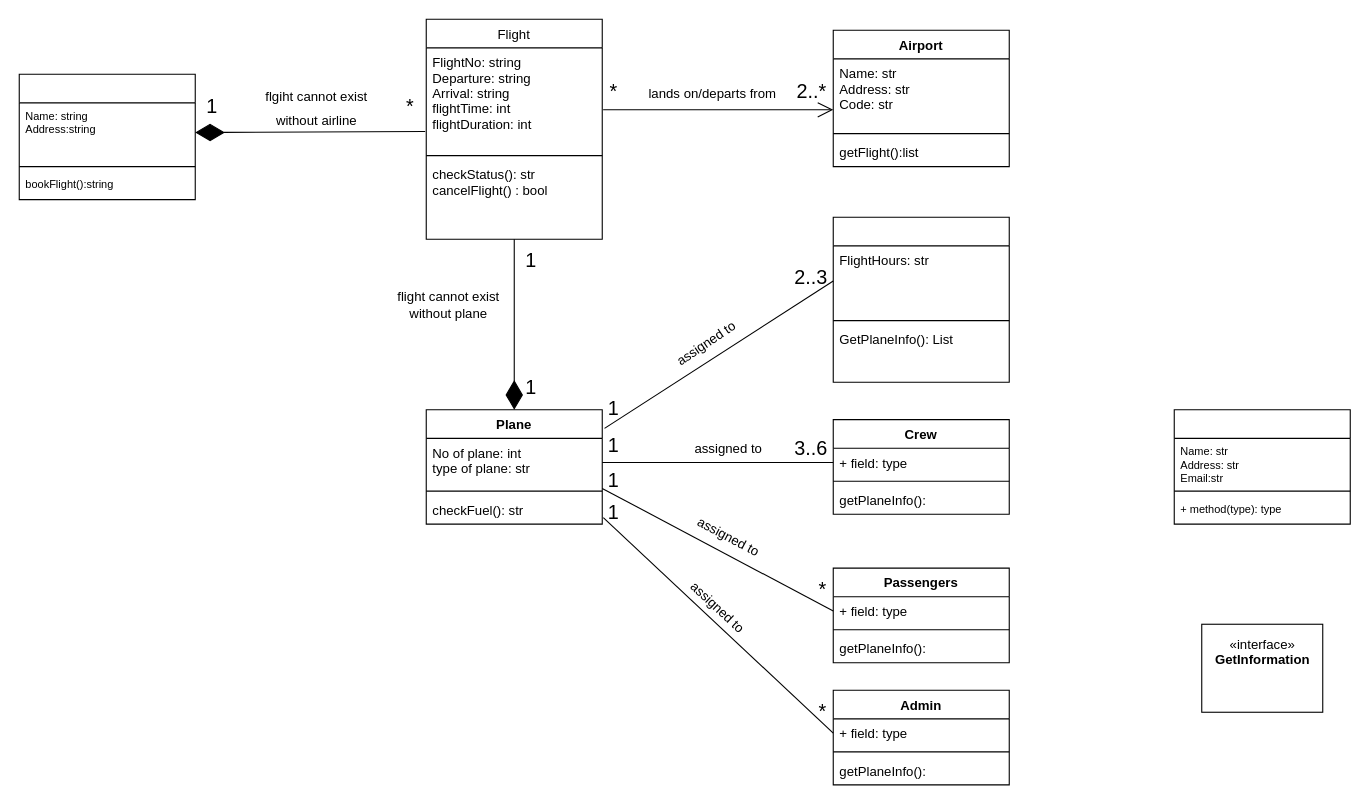
The diagram is 1370 pixels wide and 807 high, and some of its shapes have lost their labels. Here are the shapes that lost their labels. From the top down, the box of each, then its label:
(18, 73, 195, 200): Airline
(832, 216, 1009, 382): Pilot
(1173, 409, 1350, 524): Person
